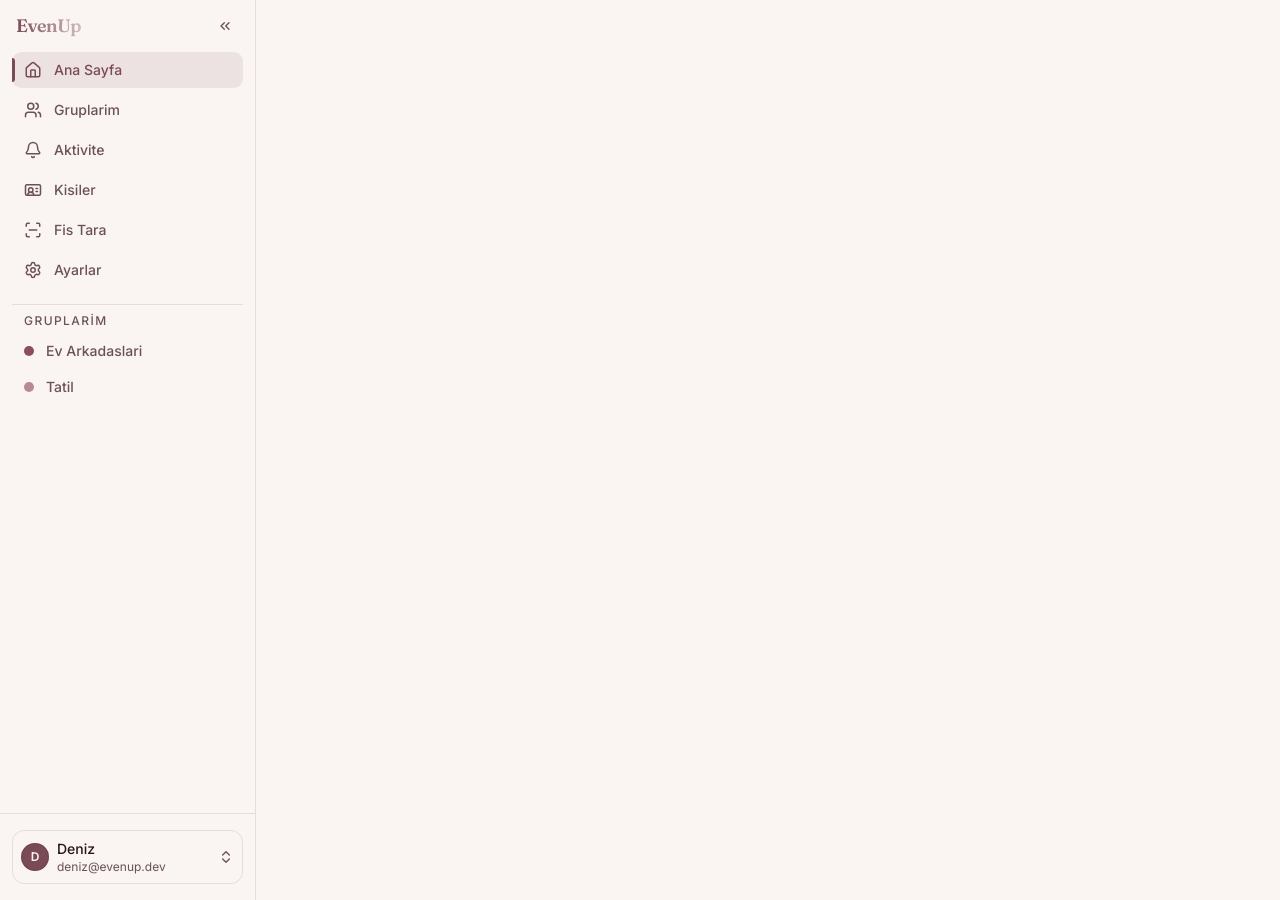
Test case: Sidebar — daralt/genislet › daraltinca isimler gizlenir ama erisilebilir ad korunur
Click the button named "Daralt": (225, 26) [211,12,239,40]
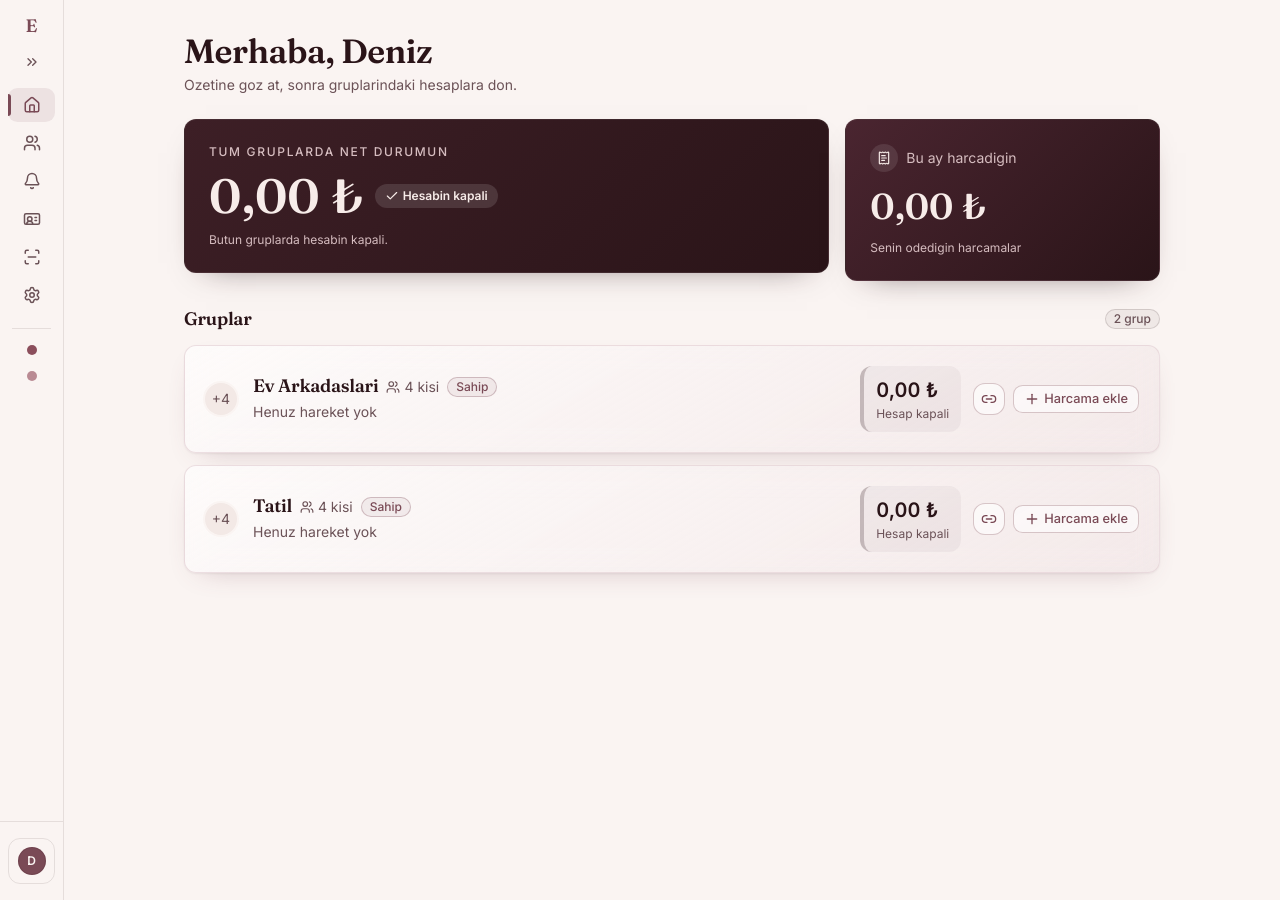
Expected: the link named "Ana Sayfa" is shown, [8,88,55,122]
Expected: the button named "Genislet" is shown, [18,48,46,76]
